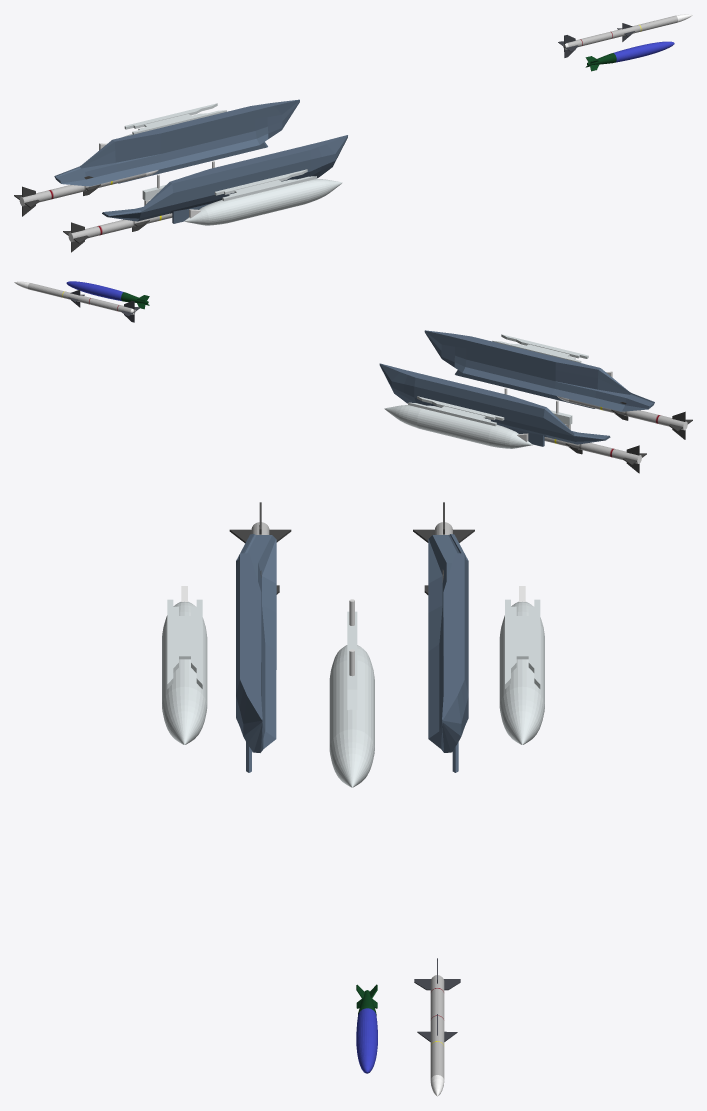
File: aam4lf15j45.glb
3 renders of one model, top to bottom at view 1: azimuth 30°, elevation 25°; view 2: azimuth 150°, elevation 25°; view 3: azimuth 270°, elevation 25°, orthographic. The views are drawn at different scales.
Visible parts, largest first — view 1: 立方体.026, 立方体.025, 円柱.001, 円柱.007, 球.004, 球.003, 球.006, 立方体.032, 立方体.005; view 2: 立方体.025, 立方体.026, 円柱, 円柱.007, 球.003, 球.004, 球.006, 立方体.027, 立方体.002; view 3: 立方体.025, 立方体.026, 円柱.002, 円柱.001, 円柱, 円柱.007, 球.006, 立方体.013.
Boxes of the visible parts, <box> form: 立方体.026: <box>54,99,299,186</box>; 立方体.025: <box>102,135,347,221</box>; 円柱.001: <box>184,179,342,225</box>; 円柱.007: <box>558,14,692,57</box>; 球.004: <box>14,170,158,216</box>; 球.003: <box>63,213,172,252</box>; 球.006: <box>585,41,674,71</box>; 立方体.032: <box>118,142,267,183</box>; 立方体.005: <box>222,176,316,201</box>; 立方体.025: <box>424,330,654,411</box>; 立方体.026: <box>379,363,610,444</box>; 円柱: <box>384,405,532,448</box>; 円柱.007: <box>14,281,139,322</box>; 球.003: <box>557,396,692,439</box>; 球.004: <box>544,437,646,473</box>; 球.006: <box>66,281,149,309</box>; 立方体.027: <box>455,370,594,408</box>; 立方体.002: <box>408,402,496,426</box>; 立方体.025: <box>236,534,276,752</box>; 立方体.026: <box>428,534,468,752</box>; 円柱.002: <box>329,645,374,787</box>; 円柱.001: <box>162,601,207,744</box>; 円柱: <box>499,601,544,744</box>; 円柱.007: <box>414,958,460,1096</box>; 球.006: <box>356,984,377,1073</box>; 立方体.013: <box>347,611,357,709</box>.
Size of the model in its own units: 22.81 by 1.99 by 6.03.
Materials: 27 (6 with a texture image).
